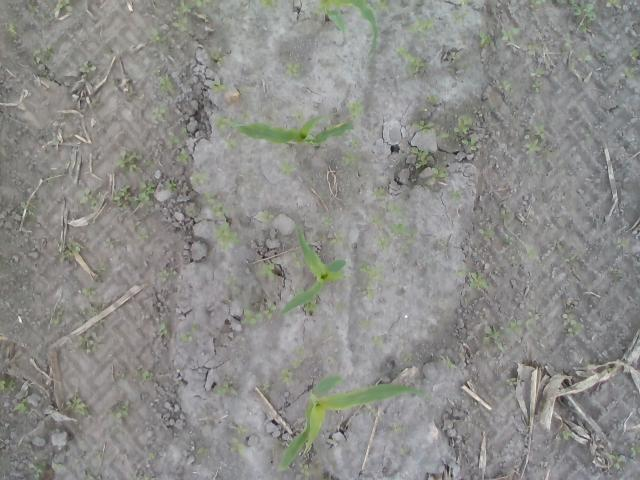Maize: (278, 374, 424, 474), (280, 222, 346, 322), (230, 116, 354, 150), (318, 0, 381, 55), (446, 52, 456, 61)
Weeds: (208, 222, 242, 256), (358, 262, 386, 303), (380, 224, 418, 254), (396, 46, 426, 80), (112, 184, 154, 208), (240, 302, 277, 327), (505, 311, 540, 337), (452, 268, 491, 288), (482, 324, 508, 353), (199, 191, 224, 221), (407, 14, 435, 40), (575, 2, 597, 34), (454, 110, 482, 134), (406, 144, 432, 169), (413, 120, 449, 138), (562, 310, 586, 336), (116, 150, 141, 174), (384, 200, 409, 224), (526, 122, 545, 153), (229, 424, 246, 458), (174, 0, 192, 32), (82, 286, 100, 317), (58, 238, 81, 262), (339, 150, 360, 176), (176, 318, 198, 342), (16, 199, 37, 224), (424, 166, 450, 185), (215, 377, 238, 397), (529, 66, 545, 94), (552, 0, 580, 16), (298, 461, 321, 480), (64, 397, 88, 415), (31, 47, 55, 64), (290, 344, 306, 369), (76, 332, 96, 352), (528, 0, 548, 20), (416, 96, 438, 114), (346, 99, 369, 116), (80, 186, 98, 207), (50, 0, 70, 18), (327, 230, 348, 246), (280, 368, 298, 386), (112, 400, 130, 418), (607, 452, 625, 470), (278, 158, 296, 176), (0, 20, 16, 40), (255, 262, 273, 279), (135, 366, 154, 382), (14, 398, 31, 415), (0, 377, 17, 394), (478, 224, 495, 241), (258, 209, 276, 225), (440, 353, 458, 369), (462, 136, 480, 152), (478, 32, 496, 48), (501, 26, 519, 42), (284, 62, 302, 78), (158, 74, 176, 90), (624, 46, 640, 63), (210, 46, 225, 64), (542, 147, 562, 160), (576, 48, 592, 64), (495, 79, 512, 94), (448, 12, 465, 26), (210, 80, 227, 94), (191, 171, 209, 184), (78, 61, 96, 74), (150, 105, 165, 120), (370, 335, 386, 349), (30, 463, 44, 479), (372, 186, 386, 202), (160, 270, 178, 282), (257, 0, 281, 9), (304, 300, 320, 313), (320, 213, 336, 226), (150, 33, 166, 46), (292, 252, 303, 270), (555, 430, 573, 441), (526, 44, 542, 56), (562, 32, 574, 48), (454, 0, 480, 7), (374, 0, 388, 13), (403, 350, 413, 368), (158, 318, 168, 336), (447, 190, 462, 202), (224, 139, 240, 150), (48, 318, 64, 329), (621, 66, 635, 78), (526, 246, 536, 262), (215, 115, 227, 128), (176, 151, 190, 162), (368, 214, 382, 225), (222, 276, 237, 286), (83, 471, 99, 480), (351, 138, 363, 150), (629, 445, 640, 458), (563, 254, 576, 265), (167, 176, 177, 190), (503, 232, 513, 246), (611, 238, 624, 248), (143, 224, 151, 240), (196, 447, 210, 456), (392, 424, 406, 433), (606, 0, 620, 9), (168, 135, 180, 145), (334, 302, 344, 314), (192, 0, 207, 8), (185, 207, 196, 217), (358, 320, 370, 329), (598, 30, 610, 39), (56, 462, 66, 472), (147, 452, 157, 462), (262, 382, 272, 392), (88, 98, 96, 110), (30, 4, 40, 13), (398, 447, 408, 456), (506, 376, 517, 384), (294, 287, 304, 295), (294, 112, 304, 120), (607, 366, 616, 374), (180, 128, 192, 134), (142, 473, 152, 480), (100, 265, 108, 272)
